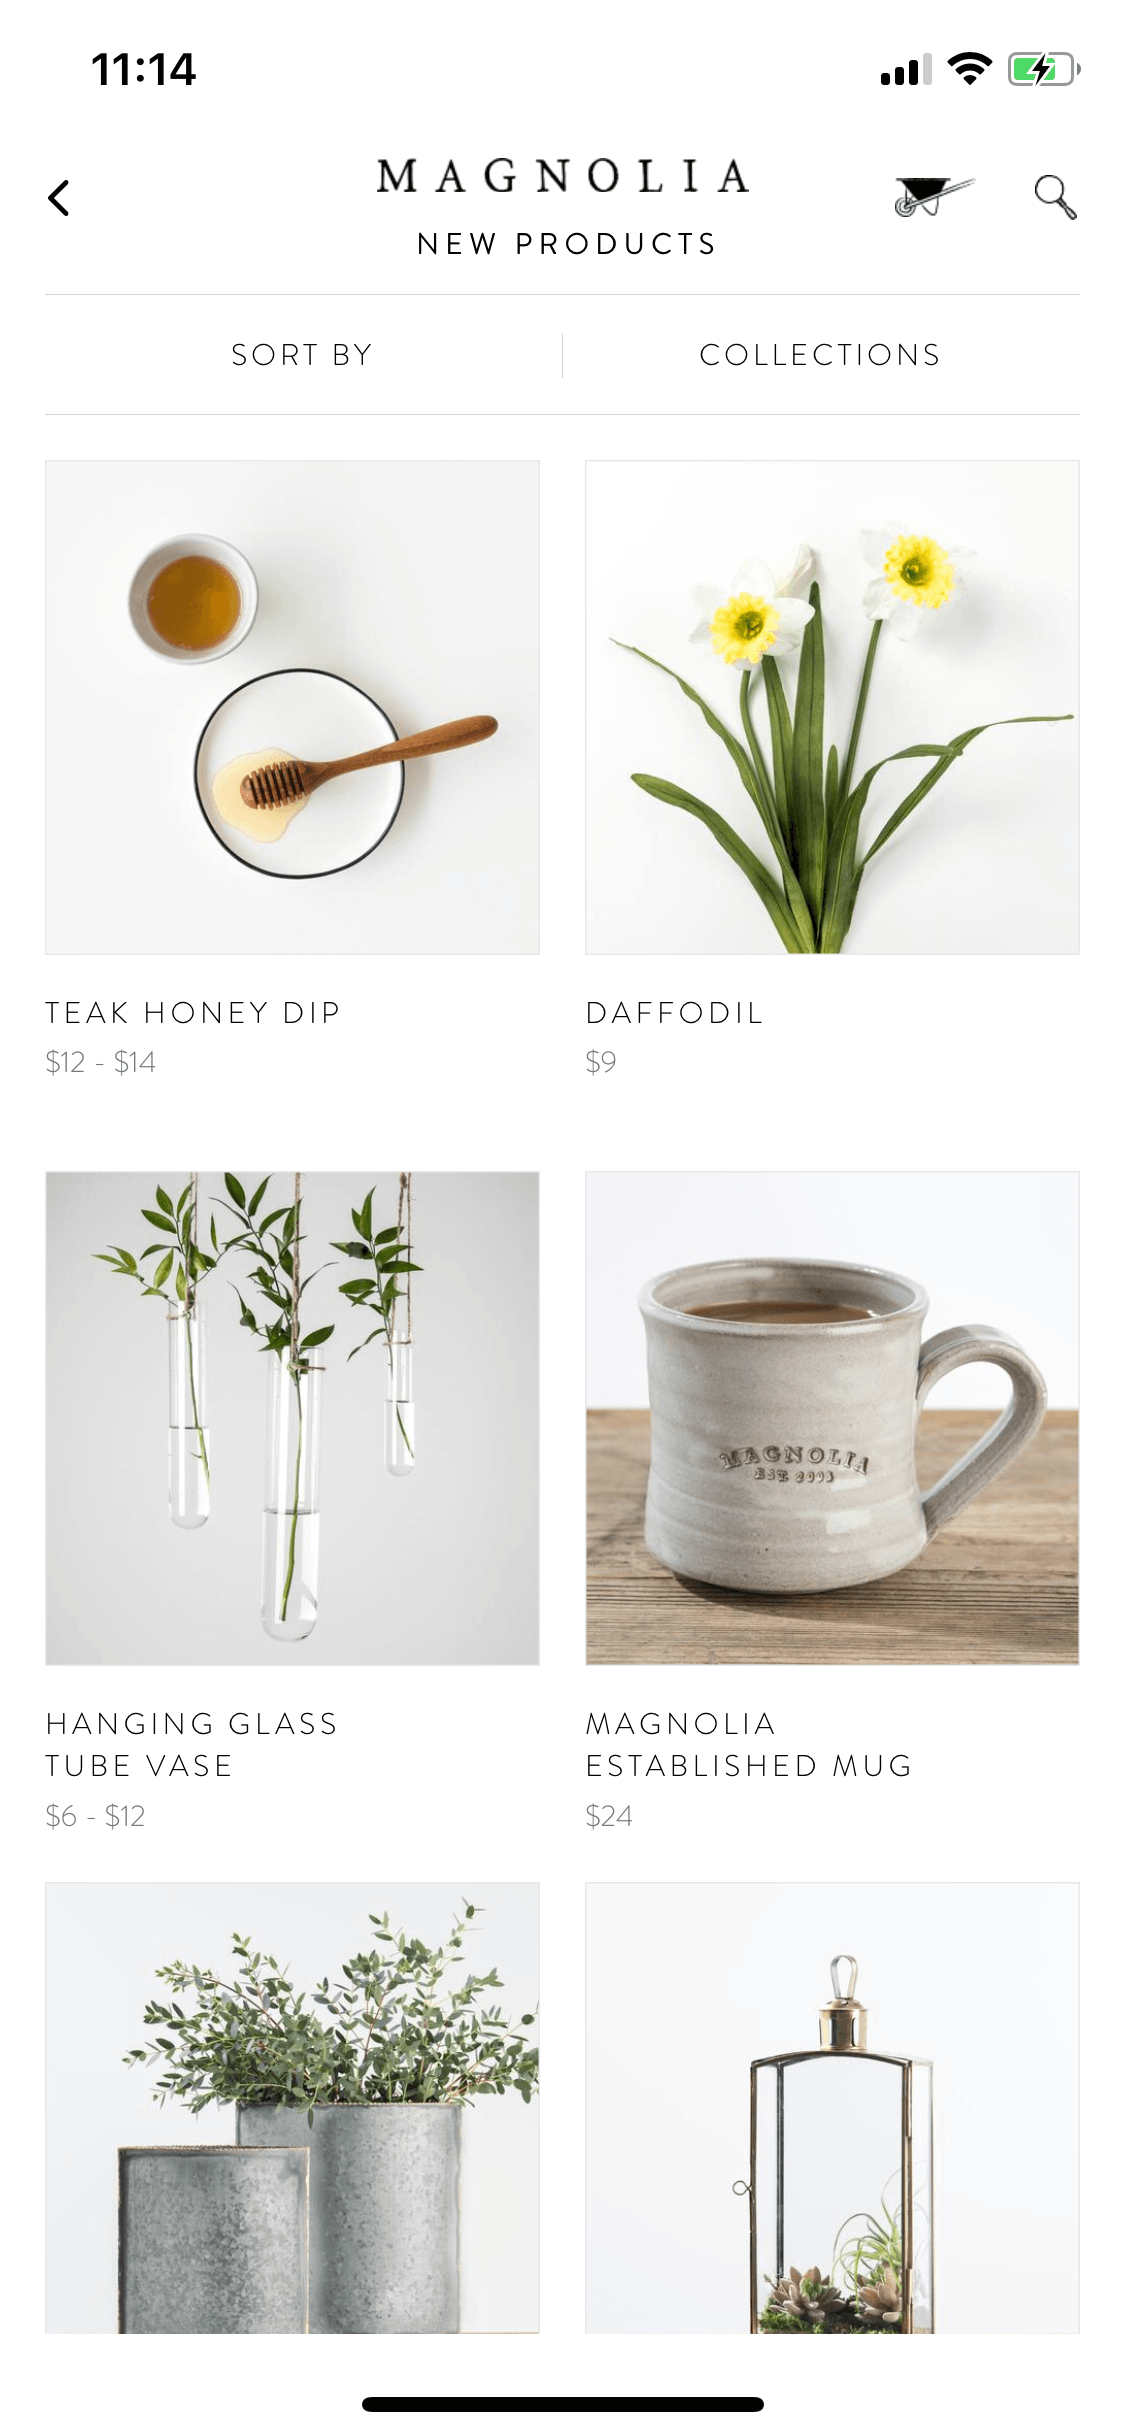Buttons: (858, 134, 987, 259), (6, 130, 121, 252), (1001, 130, 1102, 255)
